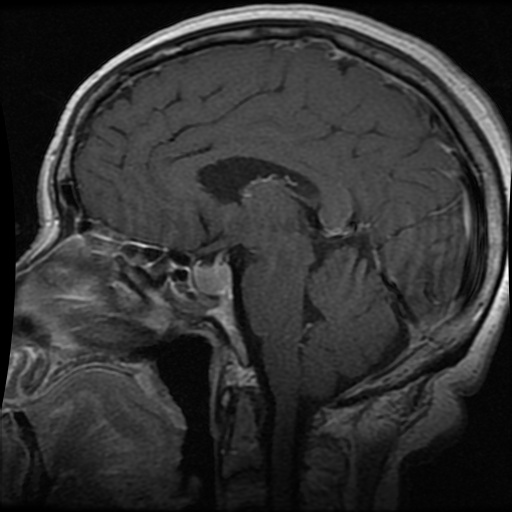pituitary: (191, 256, 234, 294)
